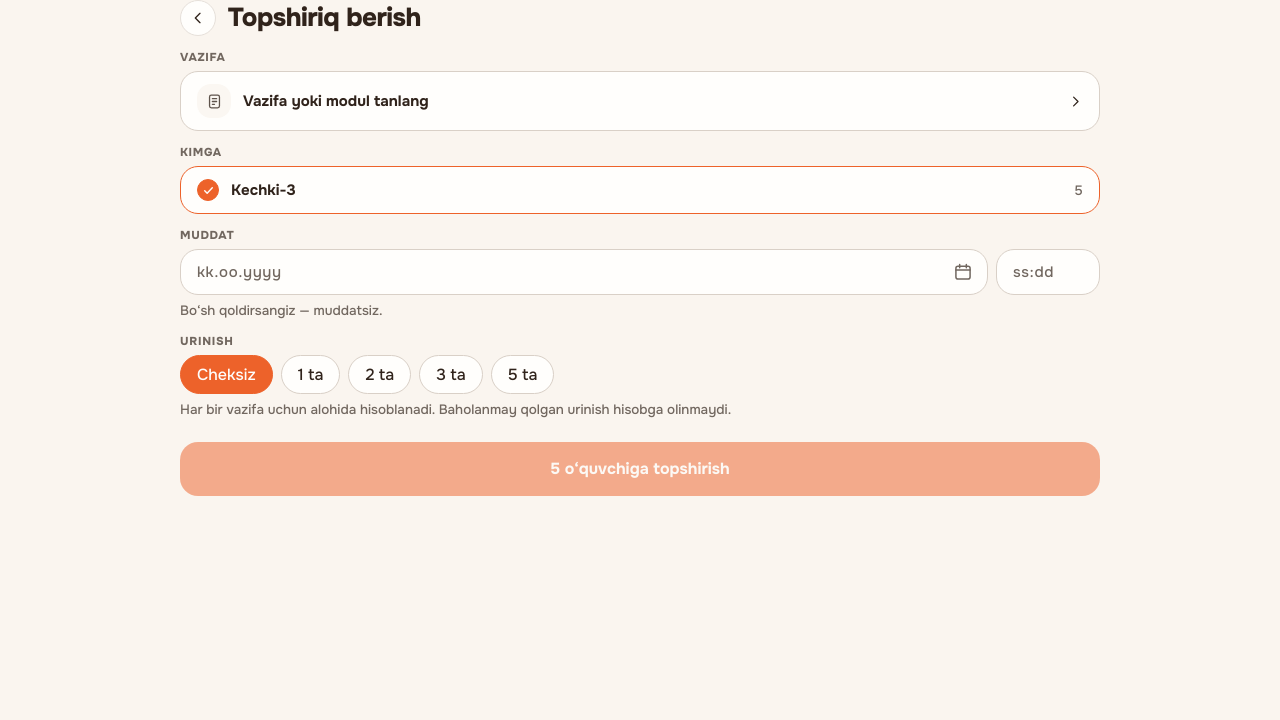
Test: the official catalog › is its own labelled section beside the teacher's own content, module and tasks alike
Click the button "Vazifa yoki modul tanlang".
click(214, 101)  # box [180,71,1100,131]
(page scrolled)
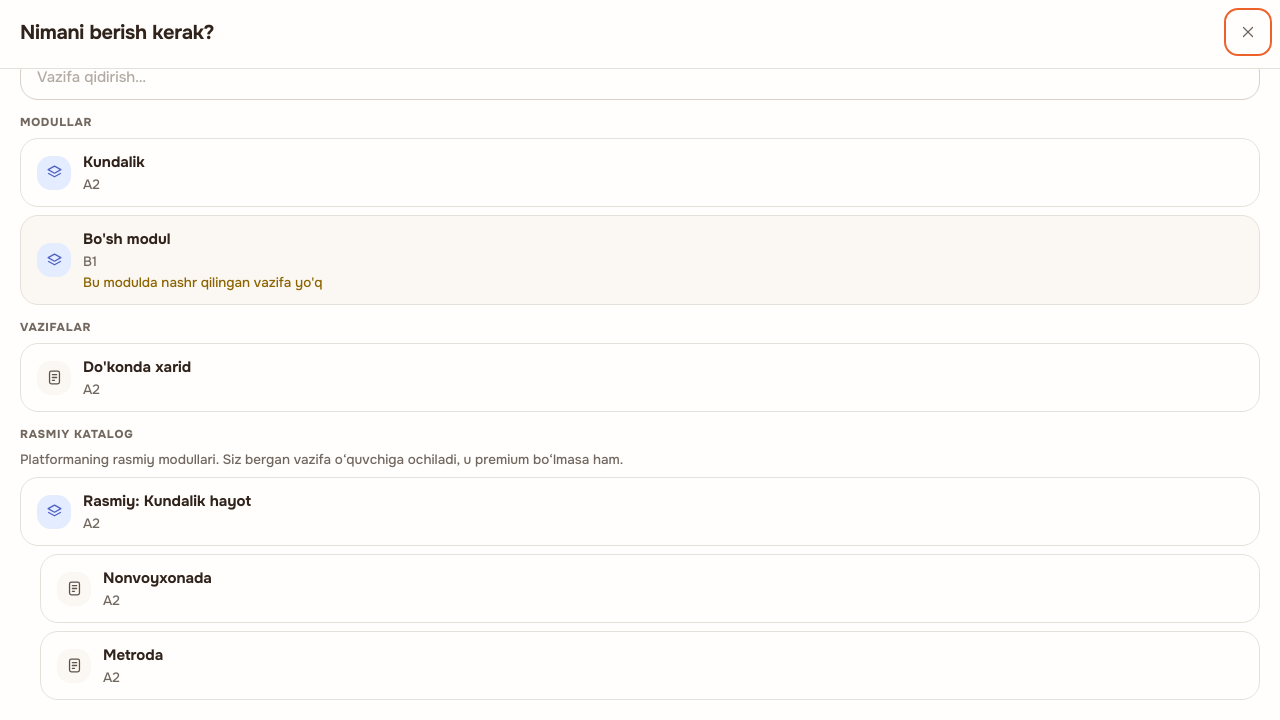
Expected: the button "Do'konda xarid A2" is shown, [20,343,1260,412]
Expected: the heading "Rasmiy katalog" is shown, [20,427,133,442]
Expected: the button "Rasmiy: Kundalik hayot A2" is enabled, [20,477,1260,546]
